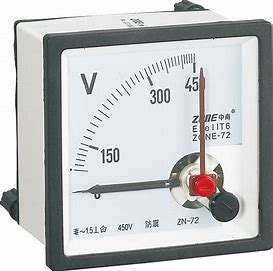pointer: (57, 35, 259, 258)
